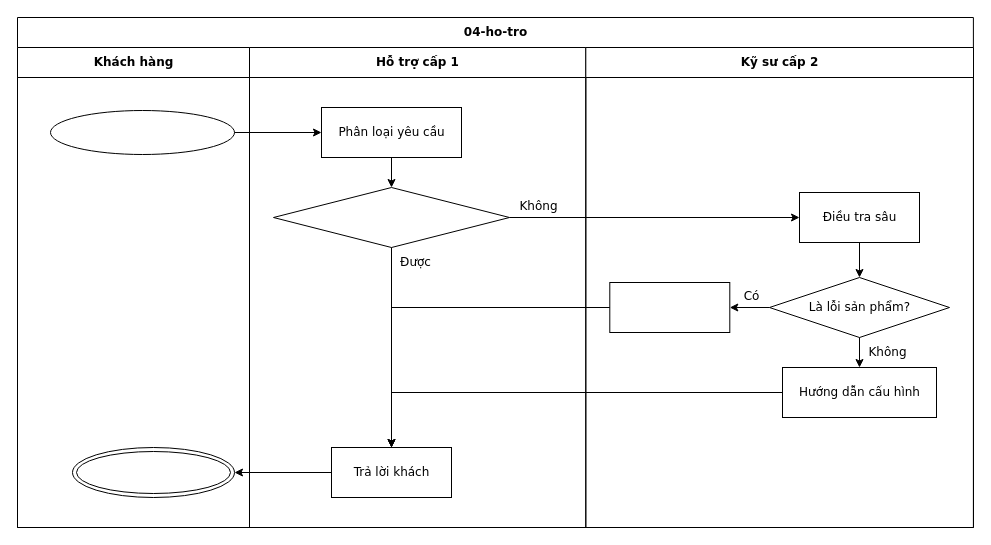
This 991x545 diagram has some shape labels left out. The shapes that lost their labels are listed below. From the top down, each one's centre as x and y in pixels, then its label:
At [142,132]: "Gửi yêu cầu hỗ trợ".
At [391,217]: "Giải quyết được ngay?".
At [669,307]: "Tạo ticket lỗi".
At [153,472]: "Nhận phản hồi".
